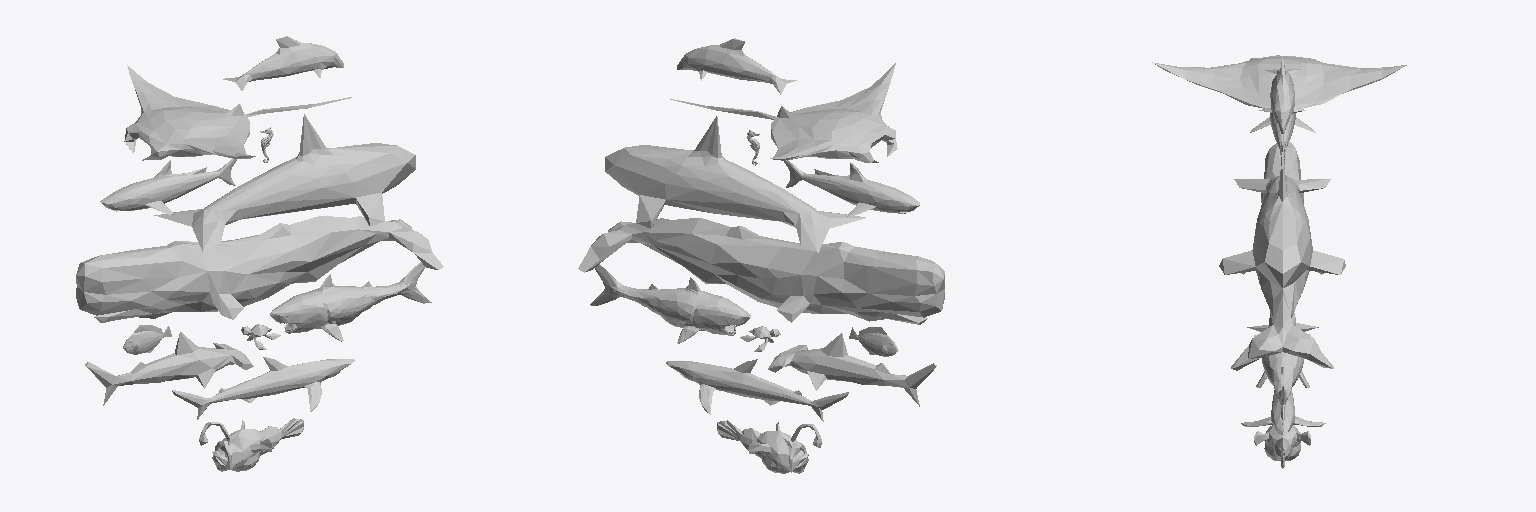
The model's file is Sea Creatures.obj.
3 views of the same model, side by side, from view 1: azimuth 30°, elevation 25°; view 2: azimuth 150°, elevation 25°; view 3: azimuth 270°, elevation 25° (orthographic).
Parts seen in each view (by area): view 1: Whale, Killer_whale, Ramp_Fish, Body, Hammerhead_Shark, Shark2, Shatk1, Anglerfish, Dolphin, Dori; view 2: Whale, Killer_whale, Ramp_Fish, Body, Hammerhead_Shark, Shark2, Shatk1, Anglerfish, Dolphin, Dori; view 3: Killer_whale, Ramp_Fish, Whale, Body, Dolphin, Anglerfish, Shark2, Shatk1.
Part boxes in pixels (left/top/right/bottom): Whale: left=76, top=216, right=443, bottom=322; Killer_whale: left=154, top=114, right=415, bottom=251; Ramp_Fish: left=124, top=65, right=351, bottom=160; Body: left=270, top=262, right=431, bottom=341; Hammerhead_Shark: left=85, top=332, right=253, bottom=405; Shark2: left=172, top=357, right=354, bottom=419; Shatk1: left=100, top=158, right=236, bottom=214; Anglerfish: left=199, top=418, right=303, bottom=471; Dolphin: left=223, top=36, right=343, bottom=90; Dori: left=123, top=325, right=171, bottom=354; Whale: left=578, top=218, right=944, bottom=324; Killer_whale: left=605, top=116, right=865, bottom=252; Ramp_Fish: left=670, top=63, right=897, bottom=162; Body: left=590, top=264, right=750, bottom=343; Hammerhead_Shark: left=768, top=333, right=936, bottom=406; Shark2: left=666, top=359, right=848, bottom=421; Shatk1: left=784, top=160, right=919, bottom=216; Anglerfish: left=717, top=420, right=821, bottom=473; Dolphin: left=677, top=38, right=796, bottom=94; Dori: left=849, top=327, right=898, bottom=356; Killer_whale: left=1219, top=166, right=1345, bottom=288; Ramp_Fish: left=1152, top=55, right=1406, bottom=168; Whale: left=1231, top=142, right=1333, bottom=370; Body: left=1256, top=352, right=1309, bottom=431; Dolphin: left=1259, top=57, right=1305, bottom=133; Anglerfish: left=1254, top=425, right=1310, bottom=468; Shark2: left=1241, top=390, right=1325, bottom=435; Shatk1: left=1250, top=113, right=1315, bottom=157.
Size of the model in its own units: 716 by 811 by 447.